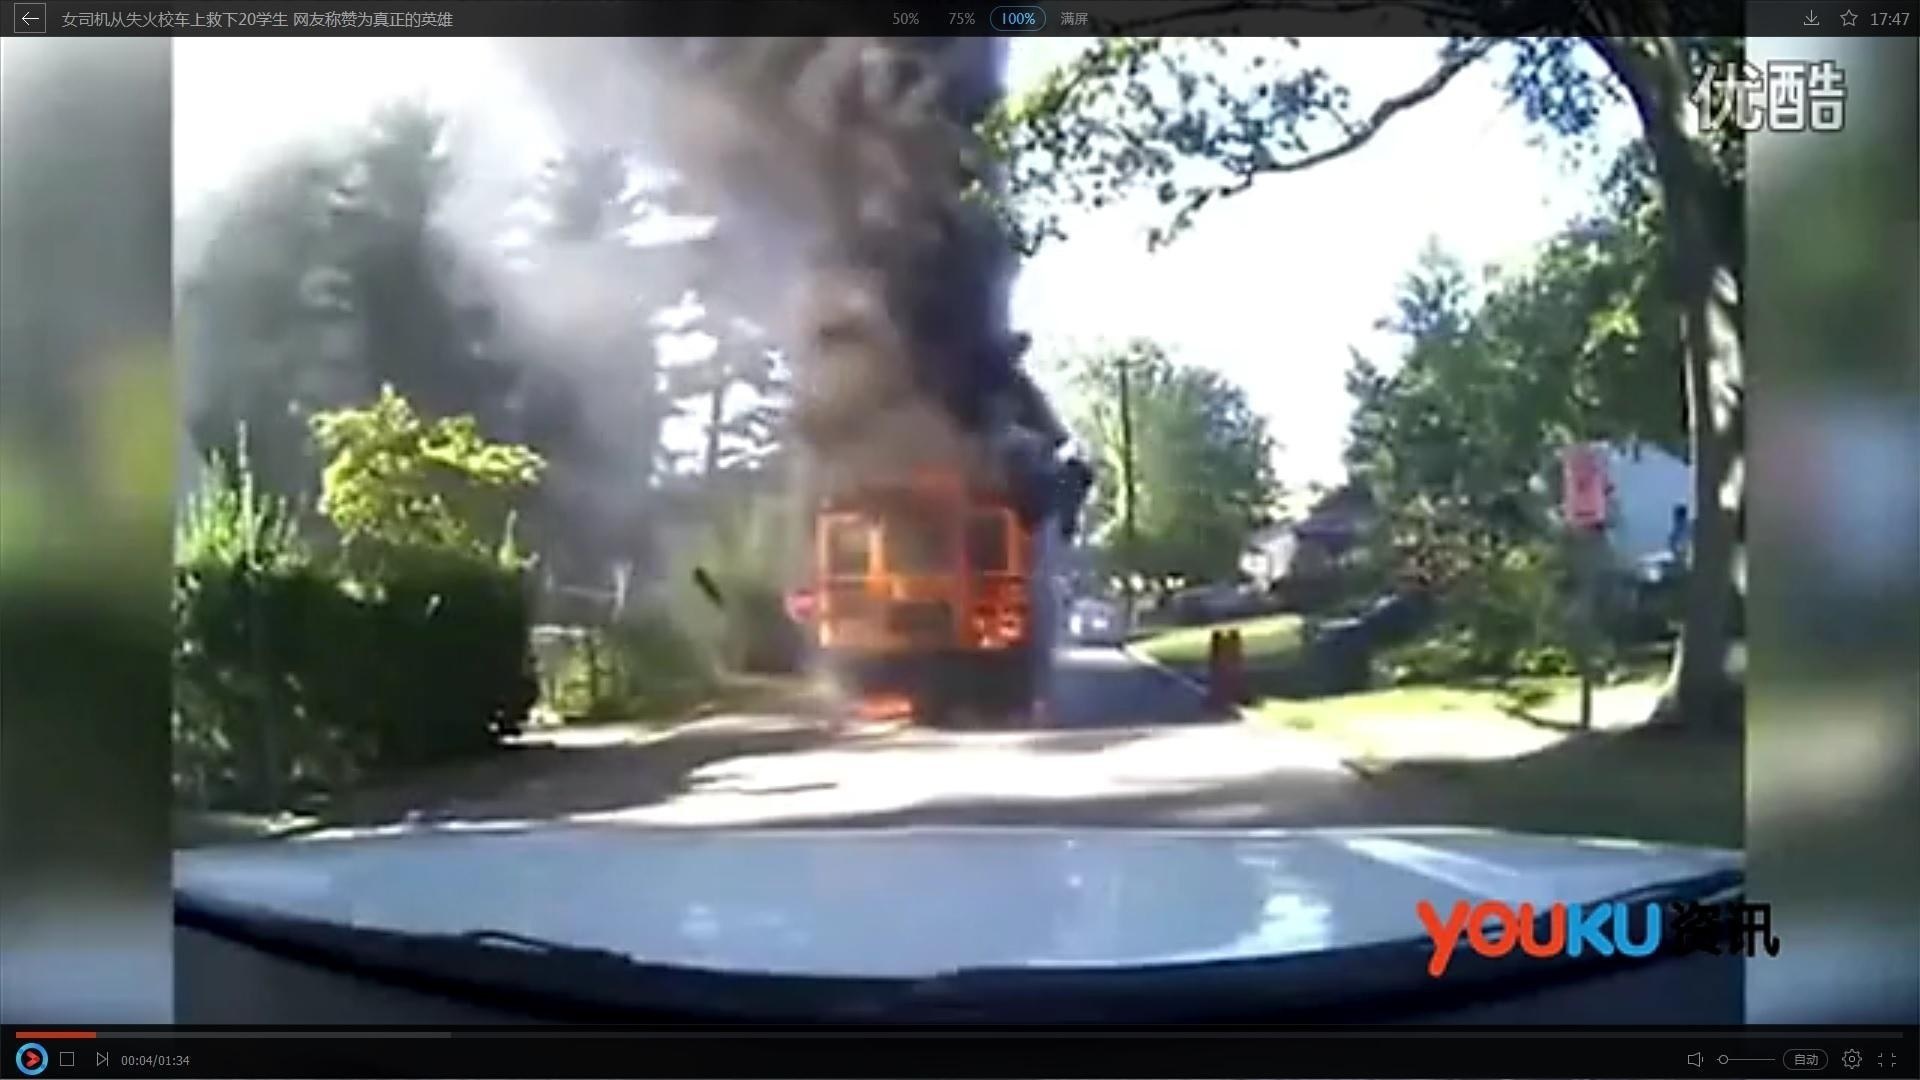fire: (804, 491, 1033, 680)
